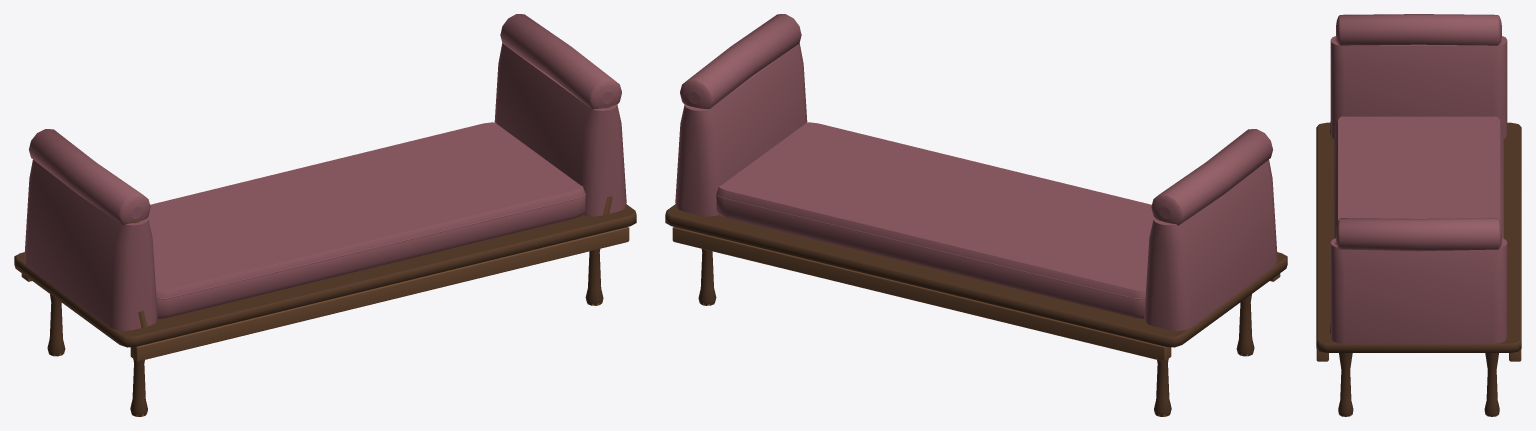
The model's file is rpg-mansion-double-end-recamier-01.glb.
3 views of the same model, side by side, from view 1: azimuth 30°, elevation 25°; view 2: azimuth 150°, elevation 25°; view 3: azimuth 270°, elevation 25° (orthographic). The views are drawn at different scales.
Visible parts, largest first — view 1: rpg-mansion-double-end-recamier-01; view 2: rpg-mansion-double-end-recamier-01; view 3: rpg-mansion-double-end-recamier-01.
Boxes of the visible parts, x1,y1,x2,y2 form: rpg-mansion-double-end-recamier-01: (14, 14, 636, 416); rpg-mansion-double-end-recamier-01: (665, 14, 1287, 416); rpg-mansion-double-end-recamier-01: (1316, 14, 1521, 416).
Bounding box in the file's own units: 2.05 × 0.85 × 0.8.
